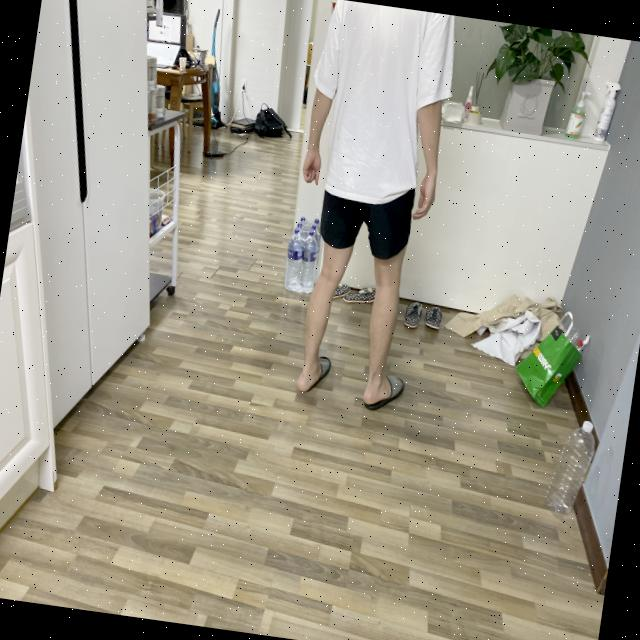no-boots: (278, 340, 346, 420), (351, 362, 422, 421)
